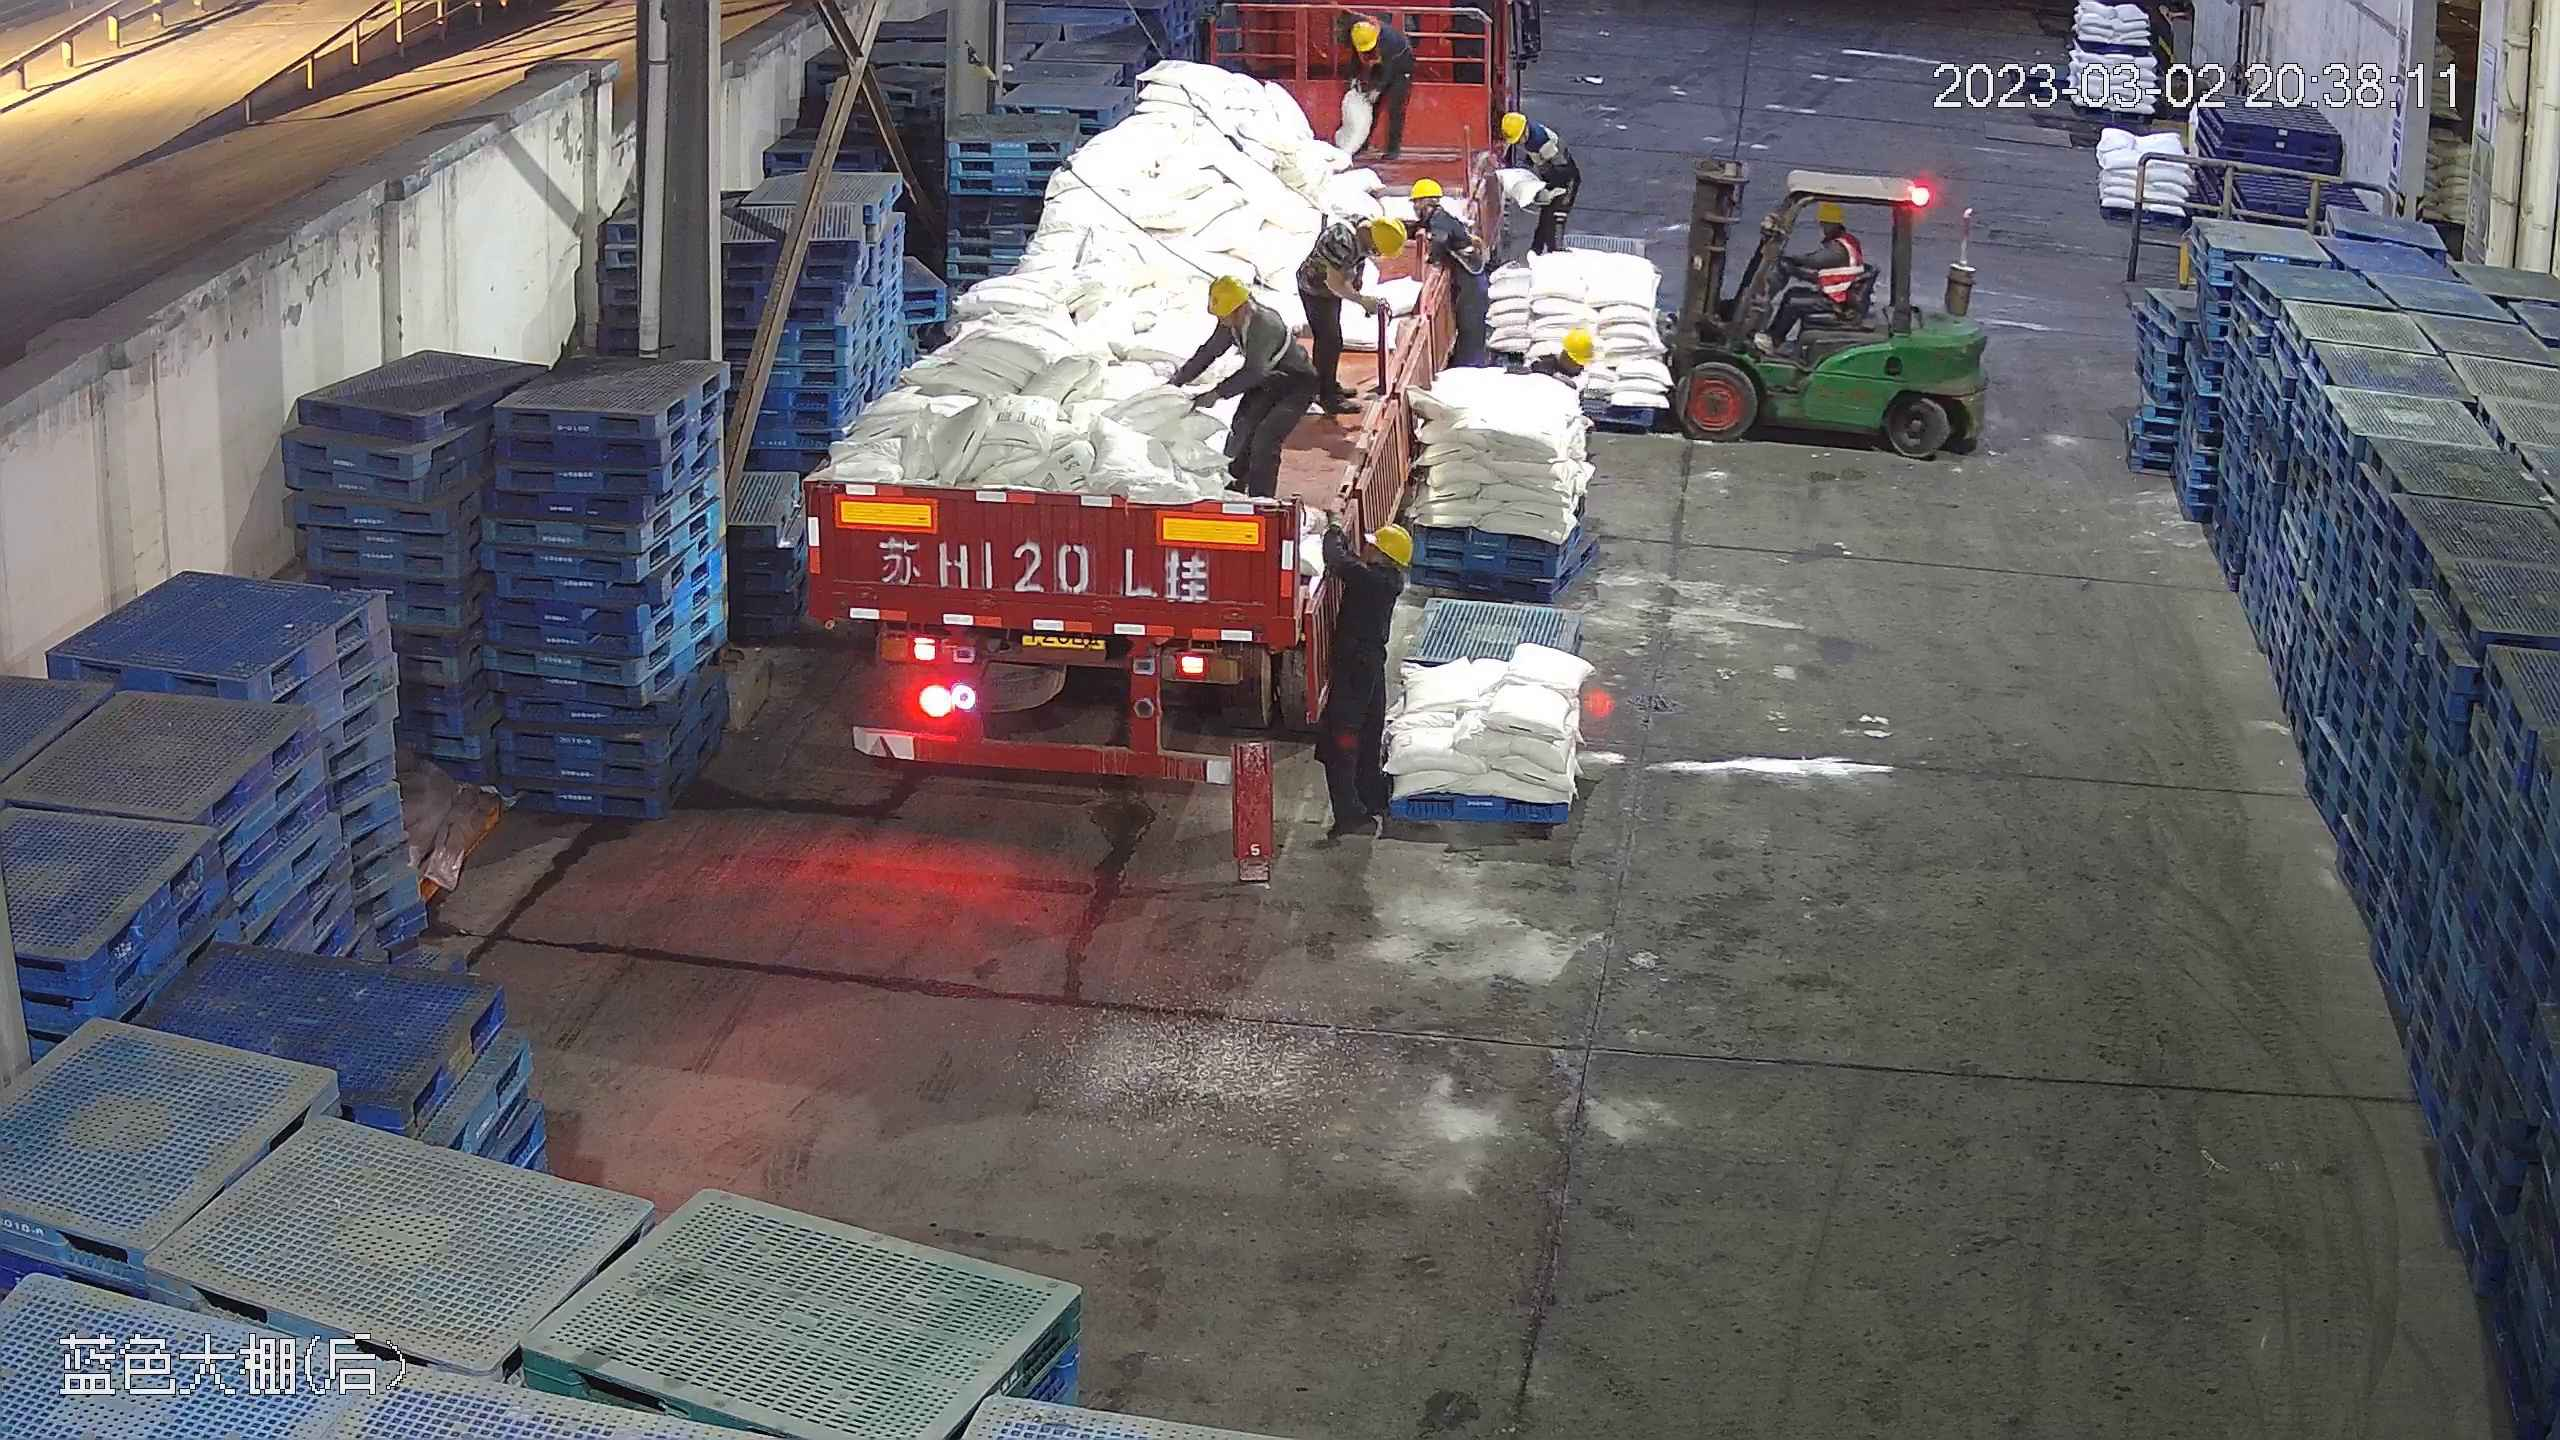belt: (1228, 299, 1296, 365), (1307, 213, 1371, 278), (1432, 199, 1478, 267), (1357, 41, 1387, 71), (1356, 8, 1383, 29)
head: (1198, 272, 1289, 354), (1337, 522, 1417, 607), (1313, 214, 1401, 278), (1404, 175, 1471, 235), (1808, 199, 1861, 266), (1495, 111, 1559, 164), (1346, 17, 1400, 66)
helmet: (1205, 271, 1250, 321), (1368, 521, 1414, 570), (1365, 215, 1405, 261), (1559, 326, 1596, 366), (1409, 174, 1444, 202), (1353, 20, 1381, 54), (1498, 110, 1526, 142), (1815, 200, 1847, 222)
people: (1312, 516, 1418, 832), (1167, 268, 1309, 494), (1291, 211, 1400, 419), (1403, 175, 1497, 377), (1752, 198, 1864, 351), (1491, 109, 1576, 270), (1336, 15, 1415, 167)
truck: (791, 16, 1502, 795)
